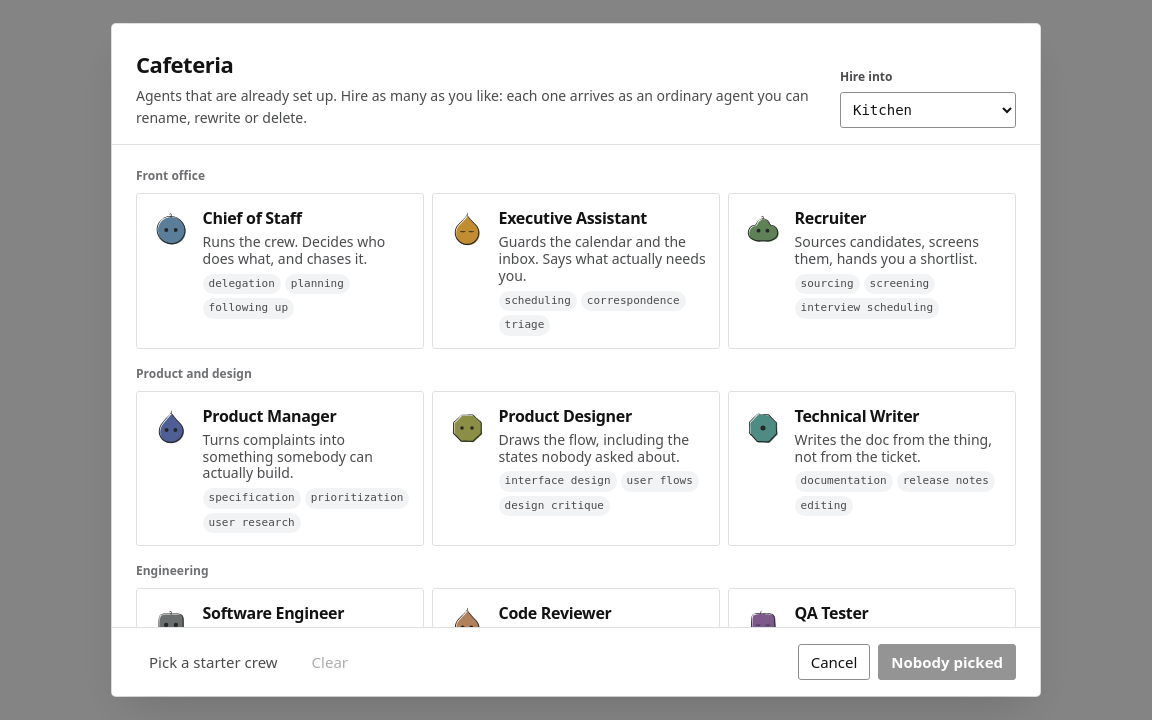
it: picking › names the group on the button, so a hire says where it is going
Click the button "Chief of Staff" at x=280, y=271, box top-left (136, 193), bottom-right (424, 349)
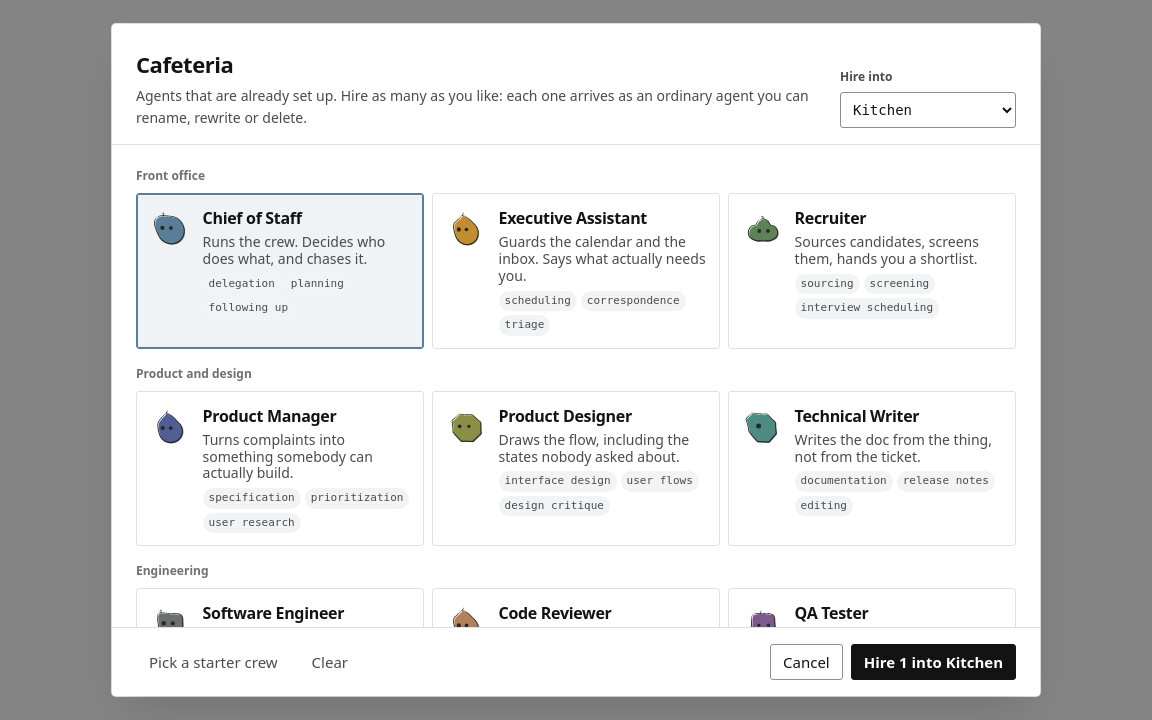
Now the button "Hire 1 into Kitchen" is shown, box top-left (851, 644), bottom-right (1016, 680)
